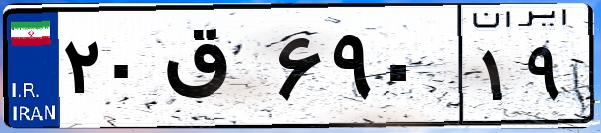0: (385, 28, 445, 110), (110, 28, 158, 98)
1: (475, 38, 525, 113)
2: (57, 26, 110, 100)
6: (270, 28, 330, 110)
9: (330, 28, 385, 110), (525, 38, 570, 115)
ق: (158, 20, 270, 120)
